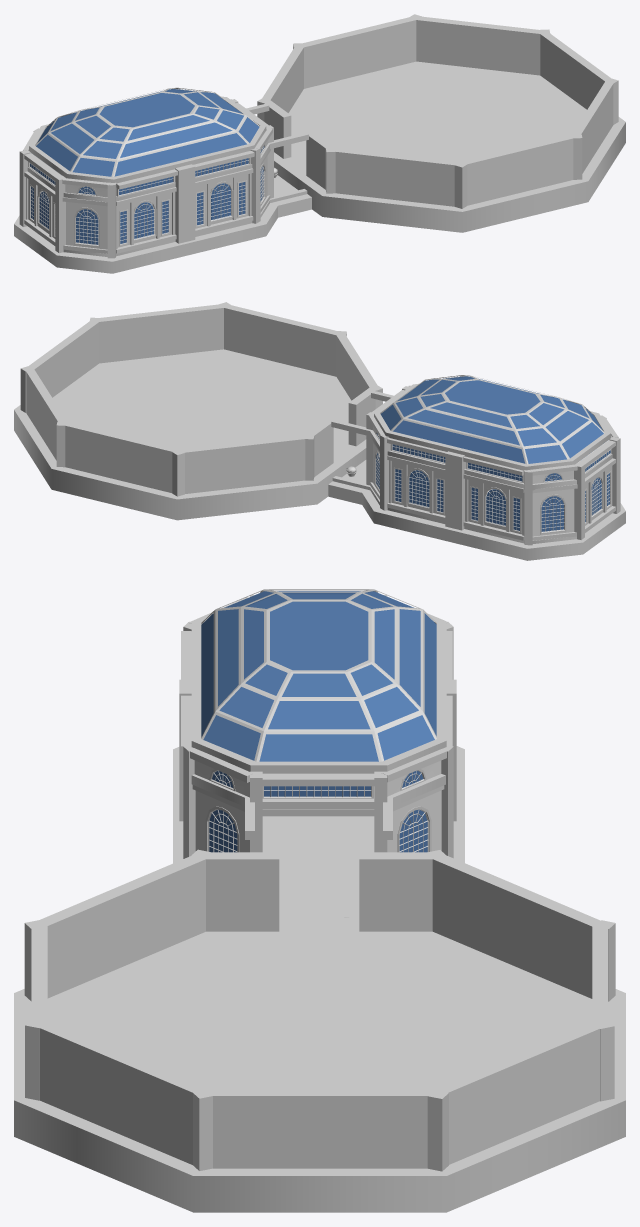
File: Unfinished_Lvl2_Outline.fbx
3 views of the same model, one above another, from view 1: azimuth 30°, elevation 25°; view 2: azimuth 150°, elevation 25°; view 3: azimuth 270°, elevation 25° (orthographic). The views are drawn at different scales.
Visible parts, largest first — view 1: Floor, Glass Roof, Greenhouse rim2, Roof Metal, Greenhouse rim004, Wall_txlyes028, Wall_txlyes025, Wall_txlyes026, Wall_txlyes007, Wall_txlyes010, Wall_txlyes024, Wall_txlyes029 (+37 smaller); view 2: Floor, Glass Roof, Greenhouse rim2, Roof Metal, Greenhouse rim004, Wall_txlyes019, Wall_txlyes022, Wall_txlyes018, Wall_txlyes020, Wall_txlyes007, Wall_txlyes010, Wall_txlyes021 (+38 smaller); view 3: Floor, Glass Roof, Greenhouse Floor, Roof Metal, Wall_txlyes013, Greenhouse rim004, Wall_txlyes015, Wall_txlyes017, Wall_txlyes012, Wall_txlyes014, Wall_txlyes028, Wall_txlyes022 (+27 smaller).
Boxes of the visible parts, <box> form: Floor: <box>274,61,625,232</box>; Glass Roof: <box>36,89,259,176</box>; Greenhouse rim2: <box>14,194,311,273</box>; Roof Metal: <box>31,87,259,176</box>; Greenhouse rim004: <box>29,96,266,183</box>; Wall_txlyes028: <box>372,152,418,202</box>; Wall_txlyes025: <box>455,20,501,70</box>; Wall_txlyes026: <box>499,25,545,75</box>; Wall_txlyes007: <box>496,143,539,197</box>; Wall_txlyes010: <box>336,25,379,79</box>; Wall_txlyes024: <box>411,15,457,65</box>; Wall_txlyes029: <box>416,157,462,206</box>; Floor: <box>14,349,366,520</box>; Glass Roof: <box>380,376,603,463</box>; Greenhouse rim2: <box>328,481,625,560</box>; Roof Metal: <box>380,375,611,464</box>; Greenhouse rim004: <box>374,383,610,470</box>; Wall_txlyes019: <box>137,308,183,358</box>; Wall_txlyes022: <box>221,439,266,489</box>; Wall_txlyes018: <box>181,303,227,353</box>; Wall_txlyes020: <box>94,313,139,363</box>; Wall_txlyes007: <box>260,313,303,367</box>; Wall_txlyes010: <box>99,430,142,484</box>; Wall_txlyes021: <box>265,434,310,484</box>; Floor: <box>14,917,625,1212</box>; Glass Roof: <box>201,591,436,761</box>; Greenhouse Floor: <box>262,786,374,917</box>; Roof Metal: <box>201,589,436,761</box>; Wall_txlyes013: <box>280,1089,360,1168</box>; Greenhouse rim004: <box>191,613,446,773</box>; Wall_txlyes015: <box>199,852,279,931</box>; Wall_txlyes017: <box>359,852,436,931</box>; Wall_txlyes012: <box>200,1089,280,1168</box>; Wall_txlyes014: <box>360,1089,440,1168</box>; Wall_txlyes028: <box>88,875,156,976</box>; Wall_txlyes022: <box>483,876,551,976</box>.
Size of the model in its own units: 2750 by 542 by 1506.
